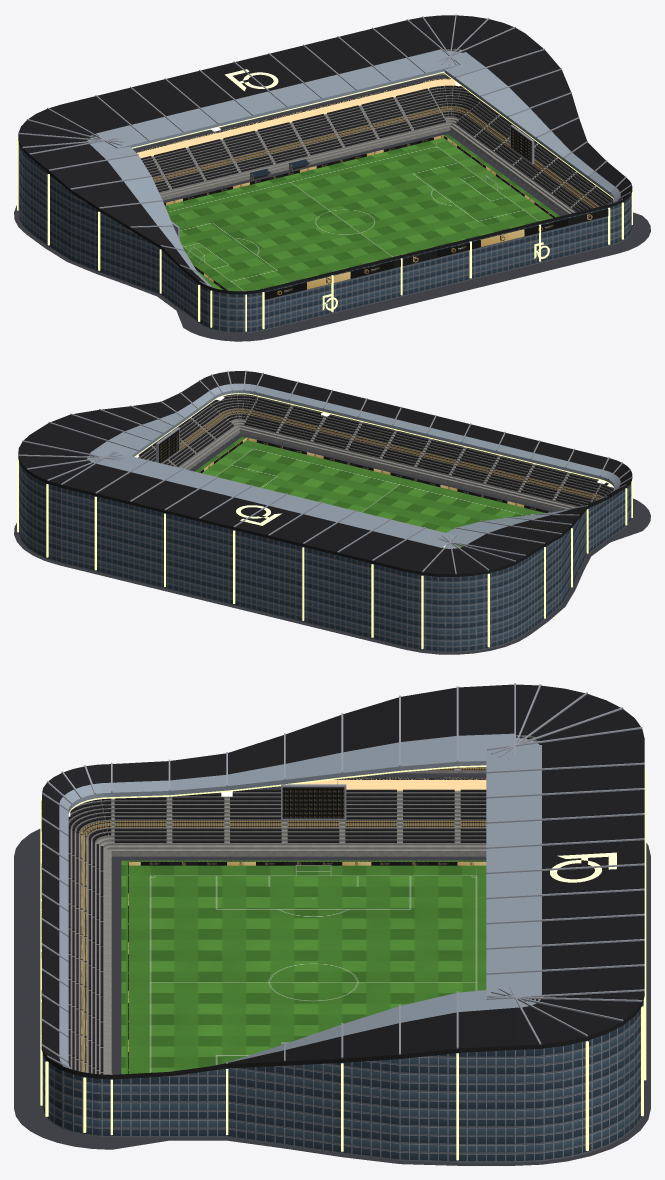
The model's file is terrain_L5.glb.
3 renders of one model, top to bottom at view 1: azimuth 30°, elevation 25°; view 2: azimuth 150°, elevation 25°; view 3: azimuth 270°, elevation 25°, orthographic. The views are drawn at different scales.
Visible parts, largest first — view 1: pitch_L4_L5, membrane_L5, facade_L5, roof_glass_L5, concrete_L5, seats_L5, concrete_dark_L5, steel_L5, emissive_boards_L5, emissive_led_L5, emissive_windows_L5, seats_accent_L5; view 2: facade_L5, membrane_L5, roof_glass_L5, pitch_L4_L5, concrete_L5, seats_L5, steel_L5, concrete_dark_L5, emissive_led_L5, seats_accent_L5, emissive_boards_L5, emissive_screen_L5; view 3: pitch_L4_L5, membrane_L5, facade_L5, roof_glass_L5, concrete_L5, seats_L5, concrete_dark_L5, steel_L5, emissive_led_L5, seats_accent_L5, emissive_boards_L5, emissive_screen_L5 (+1 smaller).
Boxes of the visible parts, left/top/right/bottom form: pitch_L4_L5: left=165, top=134, right=559, bottom=291; membrane_L5: left=18, top=15, right=632, bottom=294; facade_L5: left=18, top=144, right=631, bottom=333; roof_glass_L5: left=87, top=49, right=620, bottom=286; concrete_L5: left=87, top=48, right=613, bottom=214; seats_L5: left=87, top=48, right=613, bottom=211; concrete_dark_L5: left=14, top=75, right=650, bottom=341; steel_L5: left=18, top=14, right=631, bottom=291; emissive_boards_L5: left=164, top=135, right=608, bottom=299; emissive_led_L5: left=17, top=69, right=632, bottom=331; emissive_windows_L5: left=137, top=78, right=461, bottom=158; seats_accent_L5: left=152, top=106, right=598, bottom=208; facade_L5: left=18, top=461, right=631, bottom=652; membrane_L5: left=18, top=371, right=632, bottom=576; roof_glass_L5: left=87, top=383, right=620, bottom=548; pitch_L4_L5: left=195, top=436, right=545, bottom=548; concrete_L5: left=87, top=394, right=613, bottom=510; seats_L5: left=87, top=394, right=613, bottom=506; steel_L5: left=18, top=370, right=631, bottom=574; concrete_dark_L5: left=14, top=433, right=650, bottom=654; emissive_led_L5: left=17, top=393, right=632, bottom=649; seats_accent_L5: left=180, top=409, right=602, bottom=499; emissive_boards_L5: left=199, top=437, right=552, bottom=512; emissive_screen_L5: left=158, top=430, right=179, bottom=463; pitch_L4_L5: left=121, top=860, right=486, bottom=1074; membrane_L5: left=42, top=684, right=644, bottom=1079; facade_L5: left=42, top=1001, right=643, bottom=1162; roof_glass_L5: left=59, top=733, right=541, bottom=1066; concrete_L5: left=68, top=735, right=540, bottom=1074; seats_L5: left=68, top=733, right=541, bottom=1074; concrete_dark_L5: left=14, top=773, right=650, bottom=1165; steel_L5: left=42, top=683, right=644, bottom=1074; emissive_led_L5: left=40, top=734, right=646, bottom=1160; seats_accent_L5: left=80, top=767, right=540, bottom=1071; emissive_boards_L5: left=41, top=801, right=486, bottom=1073; emissive_screen_L5: left=282, top=787, right=344, bottom=818.
Size of the model in its own units: 180 by 27.3 by 133.
Materials: 17 (7 with a texture image).
